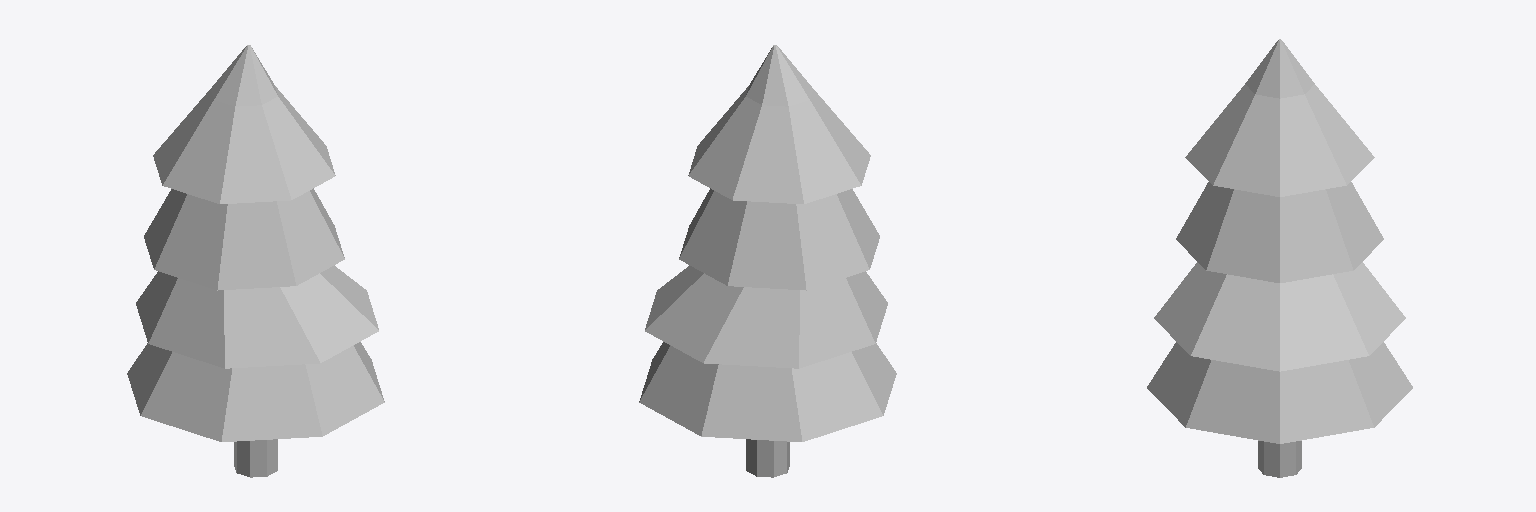
File: pinetree.obj
The picture shows the model from 3 angles: view 1: azimuth 30°, elevation 25°; view 2: azimuth 150°, elevation 25°; view 3: azimuth 270°, elevation 25°; orthographic projection.
Parts seen in each view (by area): view 1: Low_poly_tree; view 2: Low_poly_tree; view 3: Low_poly_tree.
Boxes of the visible parts, <box> form: Low_poly_tree: <box>127,45,384,477</box>; Low_poly_tree: <box>639,45,896,477</box>; Low_poly_tree: <box>1147,39,1412,477</box>.
Size of the model in its own units: 3.21 by 5.64 by 3.21.